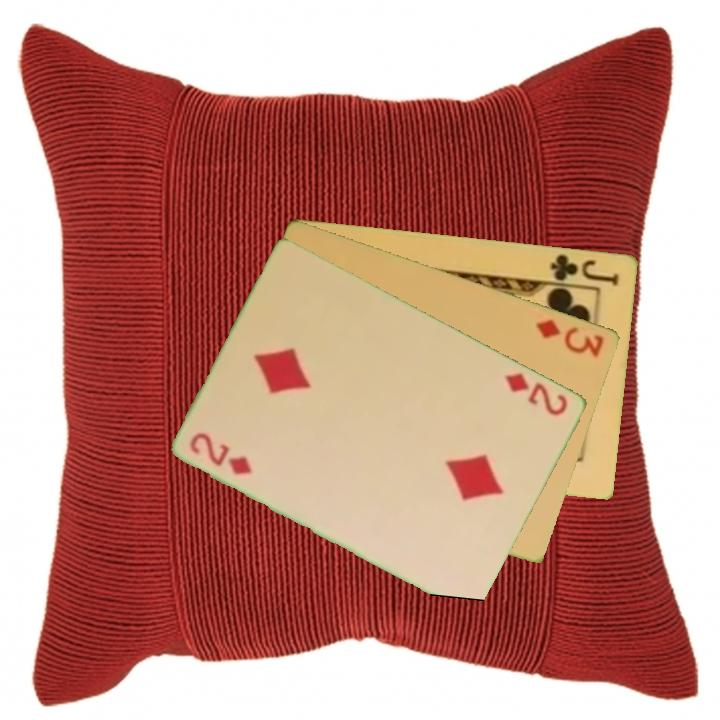2d: (502, 369, 571, 419), (186, 428, 255, 478)
3d: (532, 315, 607, 360)
Jc: (547, 250, 622, 289)
